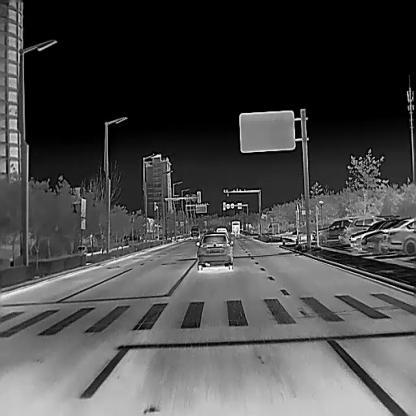car: (349, 220, 393, 254), (196, 231, 233, 270), (338, 215, 384, 244), (380, 217, 416, 254), (312, 217, 352, 245), (215, 228, 228, 238), (190, 225, 199, 238), (231, 220, 239, 234)
